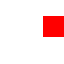square: (43, 16, 63, 36)
